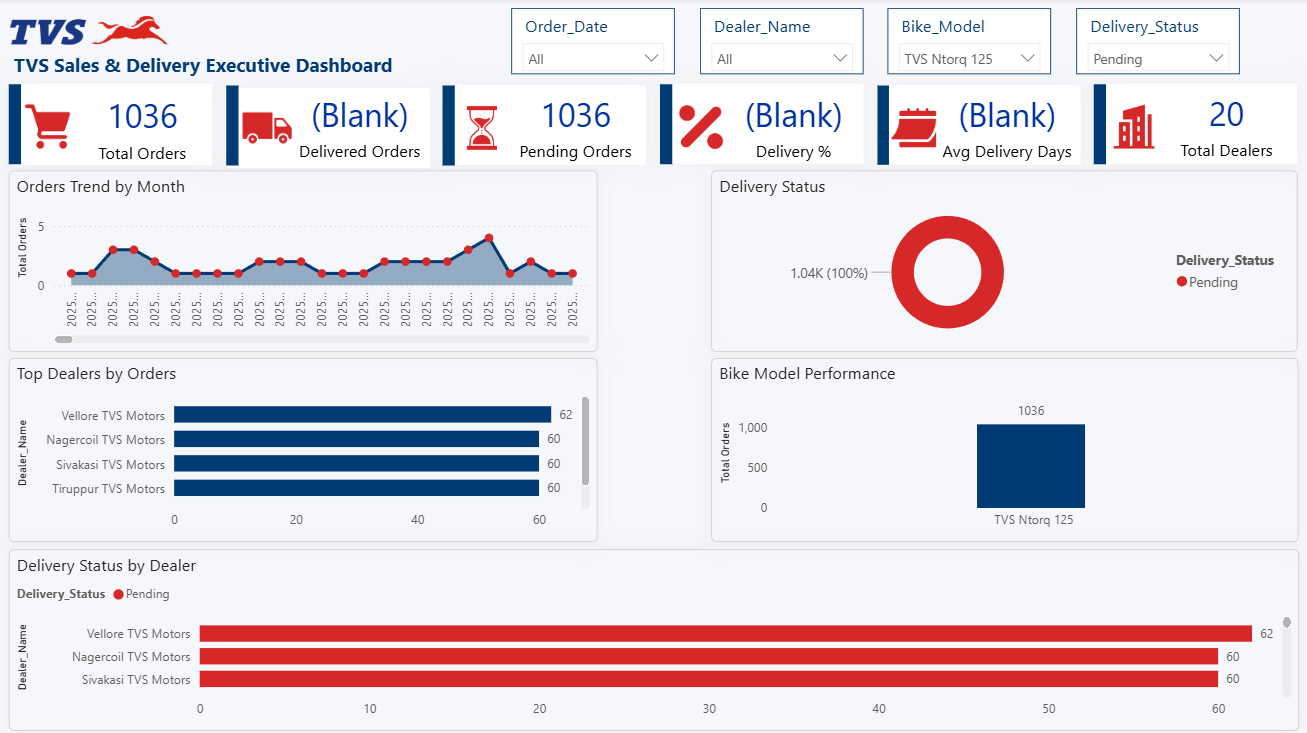

The page's visual inventory and layout, read from the dashboard file:
{"tool":"powerbi","page":{"name":"Executive Dashboard","canvas":[1280,720],"ordinal":0},"visuals":[{"type":"image","box":[9.8,2.4,154.1,58.7],"z":0},{"type":"textbox","box":[8.6,47.7,382.7,40.4],"z":1000},{"type":"shape","box":[645.8,84.2,199.1,77.9],"z":2000,"group":"g4"},{"type":"shape","box":[1071.9,84.2,197.7,77.9],"z":2000,"group":"g6"},{"type":"shape","box":[433.4,85.6,199.1,77.9],"z":2000,"group":"g3"},{"type":"lineChart","title":"Orders Trend by Month","fields":{"Category":["orders.Order_Date"],"Y":["orders.Total Orders"]},"box":[8.2,169.2,576,177.3],"z":2000},{"type":"group","id":"g1","title":"Group 1","box":[8.7,84.2,199.6,80],"z":3000,"group":"g7"},{"type":"shape","box":[1070.6,84.6,12.2,78.3],"z":3000,"group":"g6"},{"type":"donutChart","title":"Delivery Status","fields":{"Category":["orders.Delivery_Status"],"Y":["CountNonNull(orders.Order_ID)"]},"box":[695.4,169.2,573.5,177.3],"z":3000},{"type":"group","id":"g2","title":"Group 2","box":[221.1,85.6,199.1,80.8],"z":3500,"group":"g7"},{"type":"card","fields":{"Values":["orders.Total Dealers"]},"box":[1132.5,84.2,135.6,79.4],"z":4000,"group":"g6"},{"type":"group","id":"g3","title":"Group 3","box":[433.4,85.6,199.1,79.4],"z":4000,"group":"g7"},{"type":"barChart","title":"Top Dealers by Orders","fields":{"Category":["orders.Dealer_Name"],"Y":["orders.Total Orders"]},"box":[8.2,352.8,576,179.8],"z":4000},{"type":"shape","title":"Shape 5","box":[859.4,86.1,197.9,77.4],"z":4500,"group":"g5"},{"type":"shape","box":[645.8,84.2,12.2,78.3],"z":5000,"group":"g4"},{"type":"group","id":"g4","title":"Group 4","box":[645.8,84.2,199.1,80.8],"z":5000,"group":"g7"},{"type":"shape","title":"rectangle","box":[858.2,85.6,11.6,77.7],"z":5000,"group":"g5"},{"type":"image","box":[1084.5,102.2,51.4,46.5],"z":5000,"group":"g6"},{"type":"clusteredColumnChart","title":"Bike Model Performance","fields":{"Category":["orders.Bike_Model"],"Y":["orders.Total Orders"]},"box":[695.4,352.8,574.7,179.8],"z":5000},{"type":"shape","box":[433.4,85.6,12.2,78.3],"z":6000,"group":"g3"},{"type":"group","id":"g5","title":"Group 5","box":[858.2,85.6,199.1,79.4],"z":6000,"group":"g7"},{"type":"card","fields":{"Values":["orders.Avg Delivery Days"]},"box":[915.4,86.1,139.2,78.8],"z":6000,"group":"g5"},{"type":"barChart","title":"Delivery Status by Dealer","fields":{"Category":["orders.Dealer_Name"],"Series":["orders.Delivery_Status"],"Y":["orders.Total Orders"]},"box":[8.7,539.6,1262.4,177.5],"z":6000},{"type":"slicer","fields":{"Values":["orders.Order_Date"]},"box":[500.1,9.8,160.2,64.8],"z":7000},{"type":"group","id":"g6","title":"Group 6","box":[1070.6,84.2,199.1,79.4],"z":7000,"group":"g7"},{"type":"image","box":[870.8,104,48,46.2],"z":7000,"group":"g5"},{"type":"shape","title":"Shape 1","box":[9,84.2,199.1,79.4],"z":7500,"group":"g1"},{"type":"group","id":"g7","title":"Group 7","box":[8.7,84.2,1261,82.2],"z":8000},{"type":"shape","title":"rectangle","box":[8.7,84.7,12.2,78.3],"z":8000,"group":"g1"},{"type":"card","fields":{"Values":["orders.Delivery %"]},"box":[707.8,85.6,137.1,79.4],"z":8000,"group":"g4"},{"type":"shape","title":"Shape 2","box":[221.1,87.6,199.3,78.3],"z":8500,"group":"g2"},{"type":"slicer","fields":{"Values":["orders.Dealer_Name"]},"box":[684.4,9.8,160.2,64.8],"z":9000},{"type":"shape","title":"rectangle","box":[221.6,85.6,12.2,78.3],"z":9000,"group":"g2"},{"type":"image","box":[660.6,103.7,51.4,46.5],"z":9000,"group":"g4"},{"type":"slicer","fields":{"Values":["orders.Delivery_Status"]},"box":[1052.9,9.8,160.2,64.8],"z":10000},{"type":"card","fields":{"Values":["orders.Pending Orders"]},"box":[494,85.6,138.5,79.4],"z":10000,"group":"g3"},{"type":"slicer","fields":{"Values":["orders.Bike_Model"]},"box":[868.6,9.8,160.2,64.8],"z":11000},{"type":"image","box":[446.8,103.9,51.4,46.5],"z":11000,"group":"g3"},{"type":"card","fields":{"Values":["orders.Total Orders"]},"box":[71.3,89.6,137,74.6],"z":14000,"group":"g1"},{"type":"image","box":[23.6,102.6,51,46],"z":15000,"group":"g1"},{"type":"card","fields":{"Values":["orders.Delivered Orders"]},"box":[284,85.6,137,79.5],"z":16000,"group":"g2"},{"type":"image","box":[236.3,103.7,51.4,46.5],"z":17000,"group":"g2"}]}

Visuals, with their boxes in screenshot pixels (x1, y1, x2, y2), scaled from the page's 1280x720 canvas onto the 1307x733 screenshot:
image: left=10, top=2, right=167, bottom=62
textbox: left=9, top=49, right=400, bottom=90
shape: left=659, top=86, right=863, bottom=165
shape: left=1095, top=86, right=1296, bottom=165
shape: left=443, top=87, right=646, bottom=166
"Orders Trend by Month" lineChart: left=8, top=172, right=597, bottom=353
"Group 1" group: left=9, top=86, right=213, bottom=167
shape: left=1093, top=86, right=1106, bottom=166
"Delivery Status" donutChart: left=710, top=172, right=1296, bottom=353
"Group 2" group: left=226, top=87, right=429, bottom=169
card - orders.Total Dealers: left=1156, top=86, right=1295, bottom=167
"Group 3" group: left=443, top=87, right=646, bottom=168
"Top Dealers by Orders" barChart: left=8, top=359, right=597, bottom=542
"Shape 5" shape: left=878, top=88, right=1080, bottom=166
shape: left=659, top=86, right=672, bottom=165
"Group 4" group: left=659, top=86, right=863, bottom=168
"rectangle" shape: left=876, top=87, right=888, bottom=166
image: left=1107, top=104, right=1160, bottom=151
"Bike Model Performance" clusteredColumnChart: left=710, top=359, right=1297, bottom=542
shape: left=443, top=87, right=455, bottom=167
"Group 5" group: left=876, top=87, right=1080, bottom=168
card - orders.Avg Delivery Days: left=935, top=88, right=1077, bottom=168
"Delivery Status by Dealer" barChart: left=9, top=549, right=1298, bottom=730
slicer - orders.Order_Date: left=511, top=10, right=674, bottom=76
"Group 6" group: left=1093, top=86, right=1296, bottom=167
image: left=889, top=106, right=938, bottom=153
"Shape 1" shape: left=9, top=86, right=212, bottom=167
"Group 7" group: left=9, top=86, right=1296, bottom=169
"rectangle" shape: left=9, top=86, right=21, bottom=166
card - orders.Delivery %: left=723, top=87, right=863, bottom=168
"Shape 2" shape: left=226, top=89, right=429, bottom=169
slicer - orders.Dealer_Name: left=699, top=10, right=862, bottom=76
"rectangle" shape: left=226, top=87, right=239, bottom=167
image: left=675, top=106, right=727, bottom=153
slicer - orders.Delivery_Status: left=1075, top=10, right=1239, bottom=76
card - orders.Pending Orders: left=504, top=87, right=646, bottom=168
slicer - orders.Bike_Model: left=887, top=10, right=1051, bottom=76
image: left=456, top=106, right=509, bottom=153
card - orders.Total Orders: left=73, top=91, right=213, bottom=167
image: left=24, top=104, right=76, bottom=151
card - orders.Delivered Orders: left=290, top=87, right=430, bottom=168
image: left=241, top=106, right=294, bottom=153
